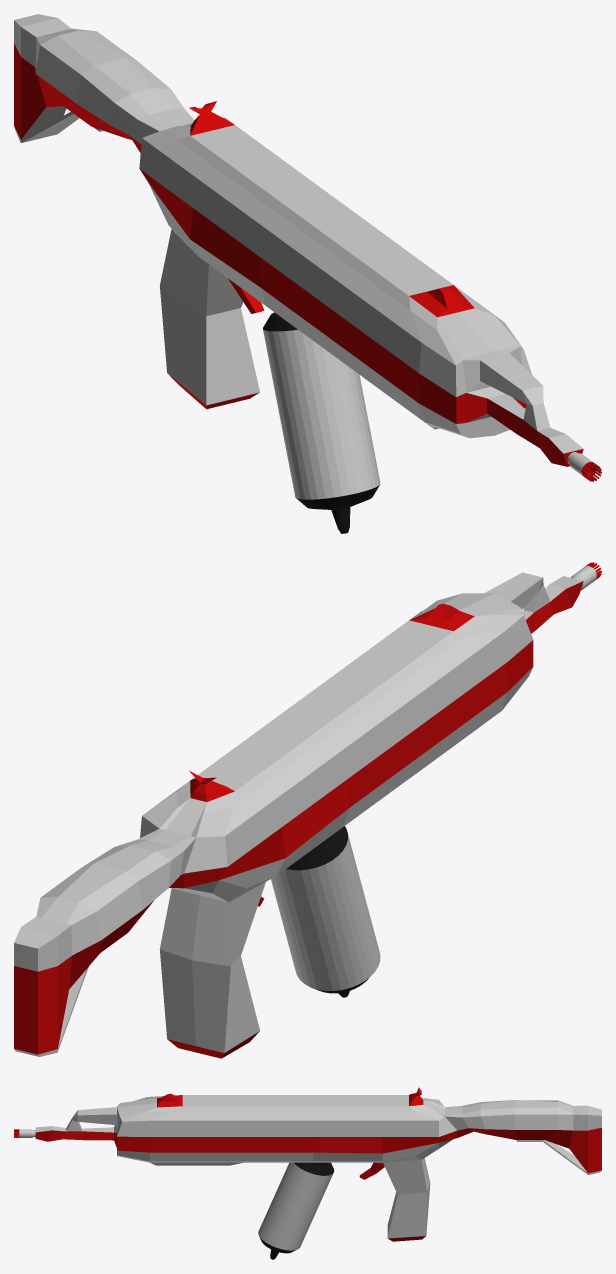
Rendered from ak_laser.obj.
The picture shows the model from 3 angles, top to bottom: view 1: azimuth 30°, elevation 25°; view 2: azimuth 150°, elevation 25°; view 3: azimuth 270°, elevation 25°; orthographic projection. The views are drawn at different scales.
Parts seen in each view (by area): view 1: Cube; view 2: Cube; view 3: Cube.
Boxes of the visible parts, bbox=[...] form: Cube: bbox=[14, 14, 601, 533]; Cube: bbox=[14, 562, 601, 1058]; Cube: bbox=[14, 1087, 601, 1259].
Size of the model in its own units: 3.22 by 10.52 by 33.25.
